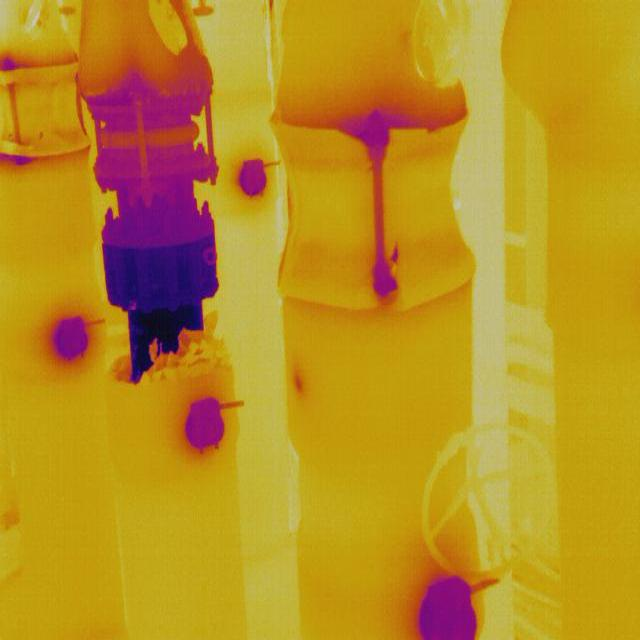leakage: (288, 362, 308, 399)
